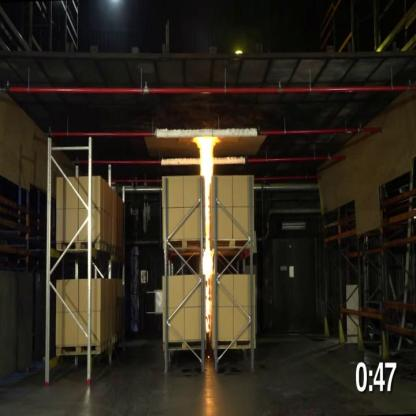fire: (193, 136, 219, 337)
